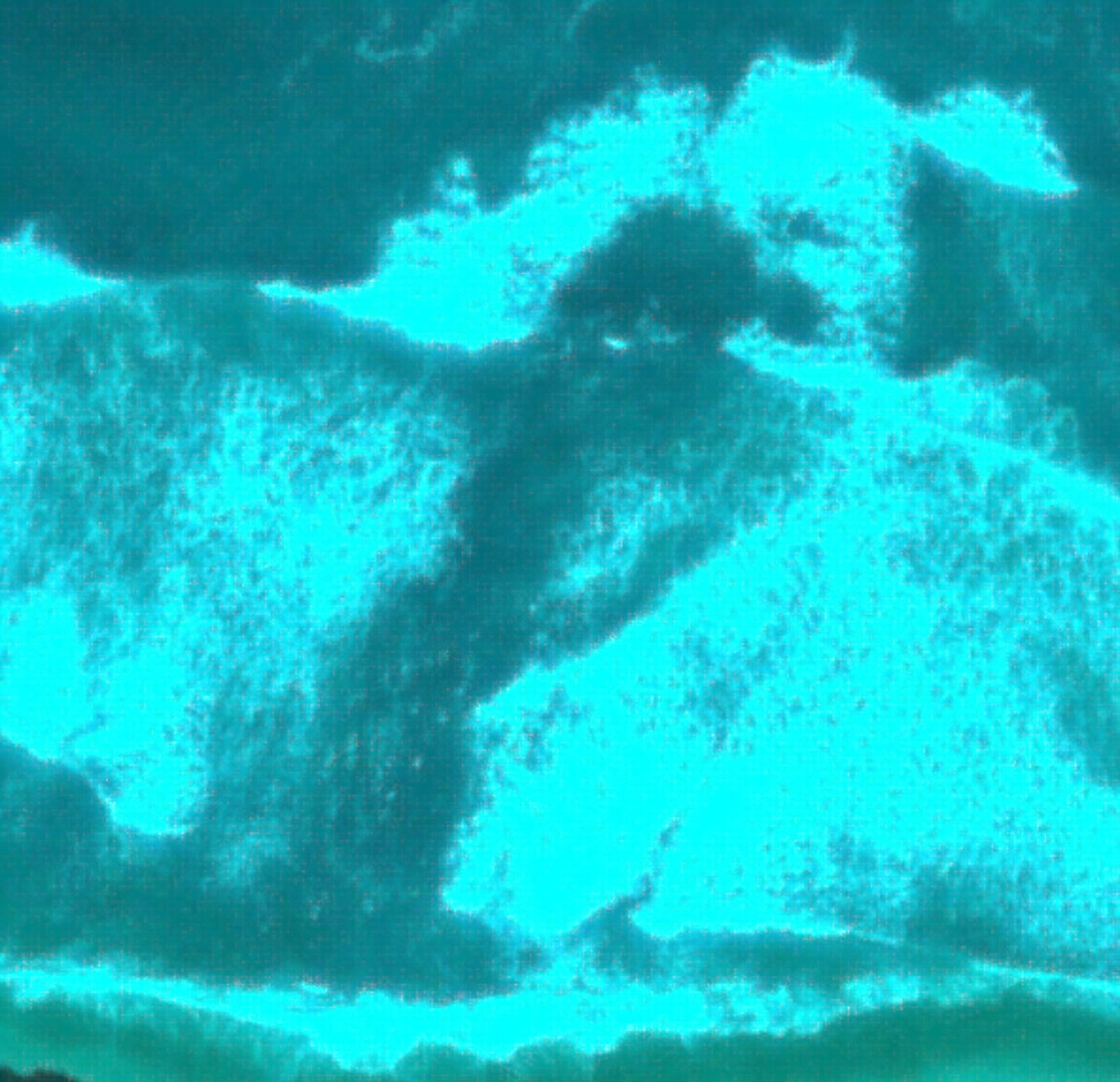rip_current: (221, 196, 869, 988)
